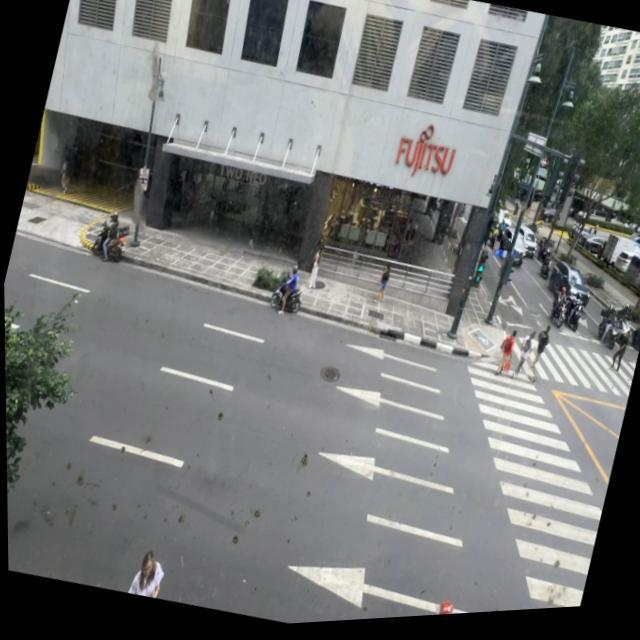jaywalking: (126, 538, 178, 602)
